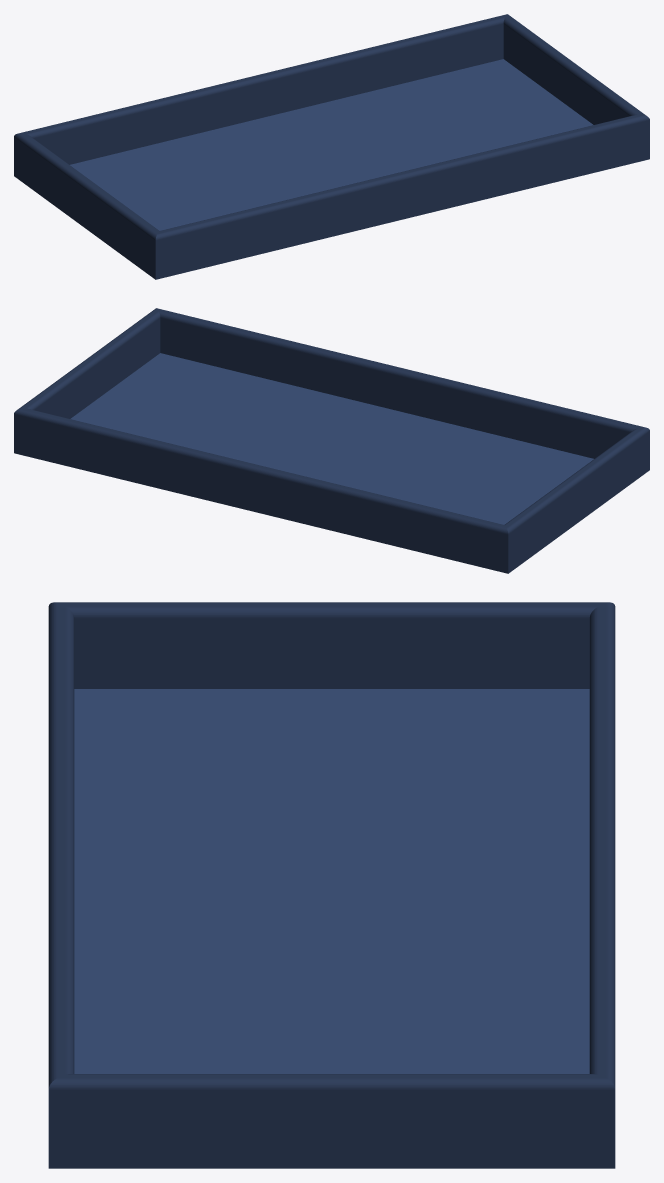
Rendered from inventorydescbox.fbx.
3 renders of one model, top to bottom at view 1: azimuth 30°, elevation 25°; view 2: azimuth 150°, elevation 25°; view 3: azimuth 270°, elevation 25°, orthographic. The views are drawn at different scales.
Visible parts, largest first — view 1: Inventorydescbox; view 2: Inventorydescbox; view 3: Inventorydescbox.
Boxes of the visible parts, x1,y1,x2,y2 form: Inventorydescbox: (14, 14, 649, 279); Inventorydescbox: (14, 308, 649, 573); Inventorydescbox: (48, 602, 615, 1168).
Size of the model in its own units: 132 by 11 by 65.34.
